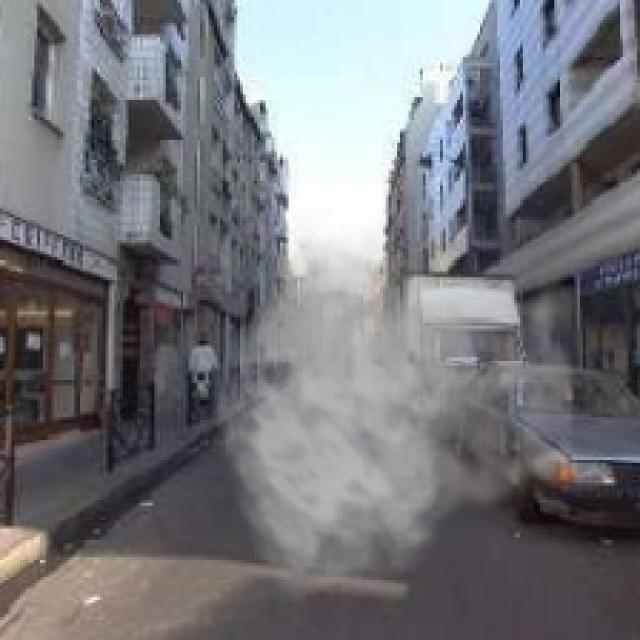smoke: (214, 206, 612, 603)
